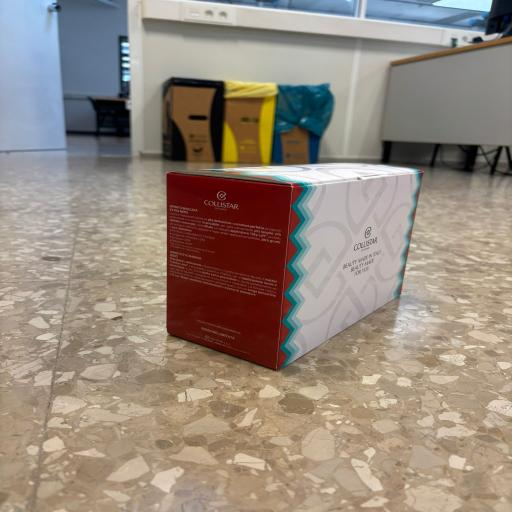caja_1: (167, 164, 421, 368)
